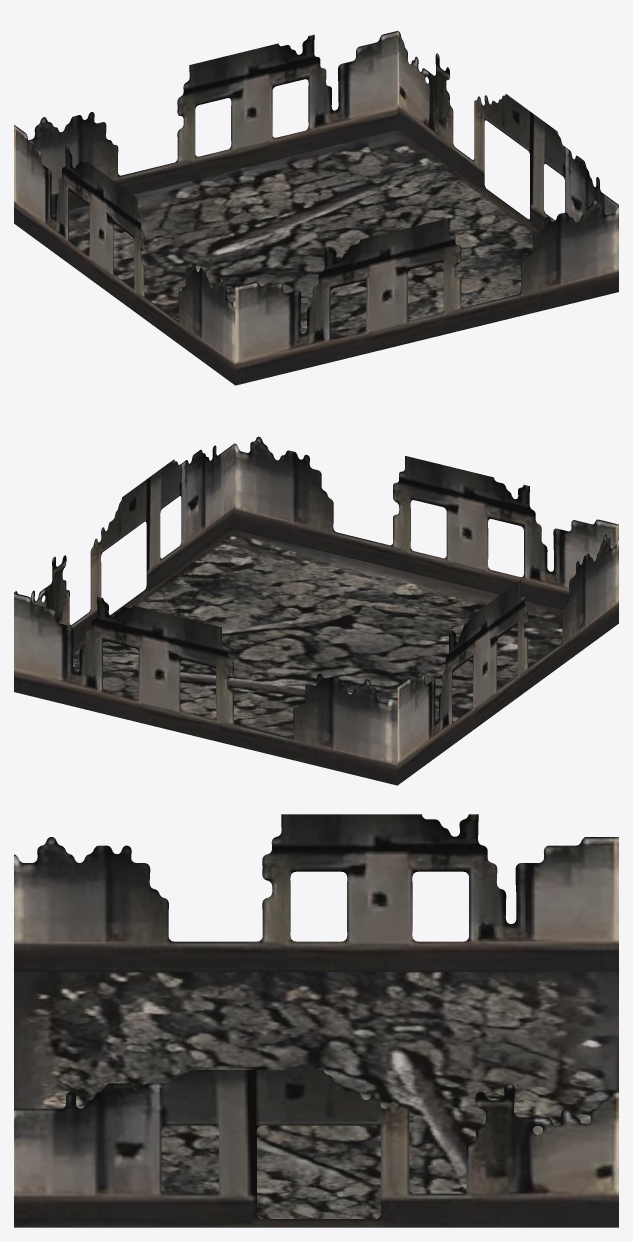
The model's file is city8storya_dam_hdtex.glb.
The picture shows the model from 3 angles, top to bottom: view 1: azimuth 30°, elevation 25°; view 2: azimuth 150°, elevation 25°; view 3: azimuth 270°, elevation 25°; orthographic projection. The views are drawn at different scales.
Visible parts, largest first — view 1: City2StoryA; view 2: City2StoryA; view 3: City2StoryA.
Part boxes in pixels (x1,y1,x2,y2): City2StoryA: (14,31,618,385); City2StoryA: (14,436,618,785); City2StoryA: (14,814,618,1227).
Bounding box in the file's own units: 17.76 × 5.11 × 17.76.
Materials: 1 (1 with a texture image).
